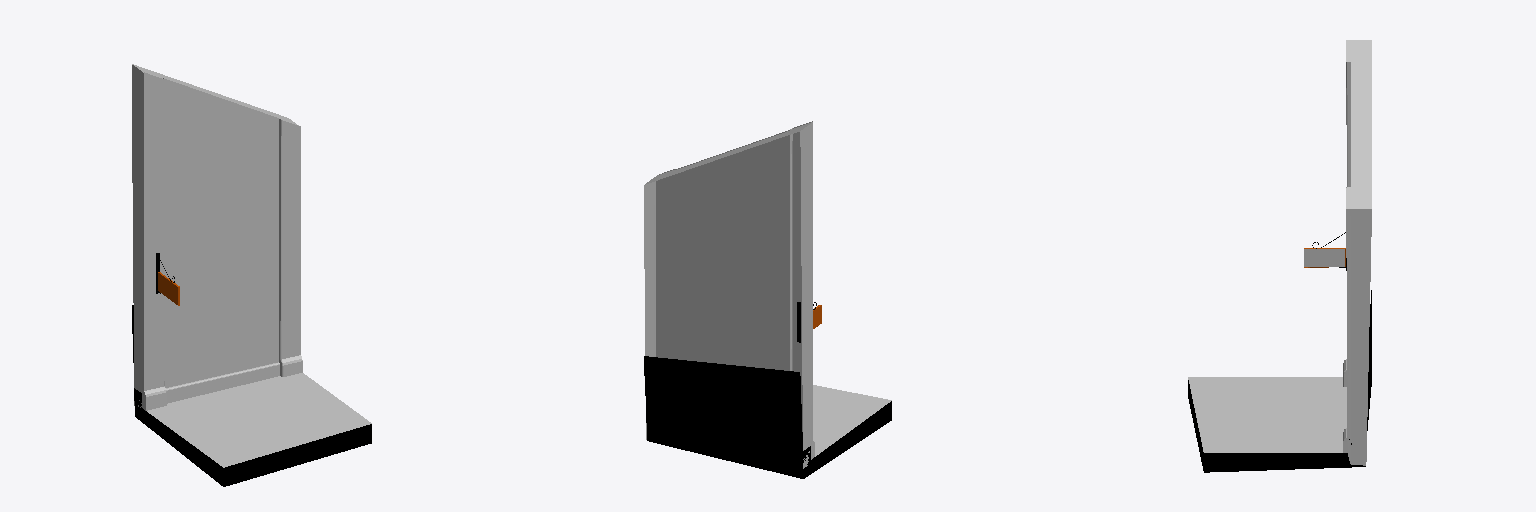
Rendered from voie.obj.
3 renders of one model, left to right at view 1: azimuth 30°, elevation 25°; view 2: azimuth 150°, elevation 25°; view 3: azimuth 270°, elevation 25°, orthographic.
Visible parts, largest first — view 1: Object_16; view 2: Object_16; view 3: Object_16.
Part boxes in pixels (x1,y1,x2,y2): Object_16: (132, 64, 371, 486); Object_16: (644, 121, 891, 478); Object_16: (1188, 40, 1371, 472).
Bounding box in the file's own units: 16.44 × 35.74 × 16.72.